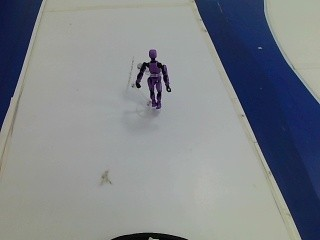pedestrian: (126, 45, 180, 116)
